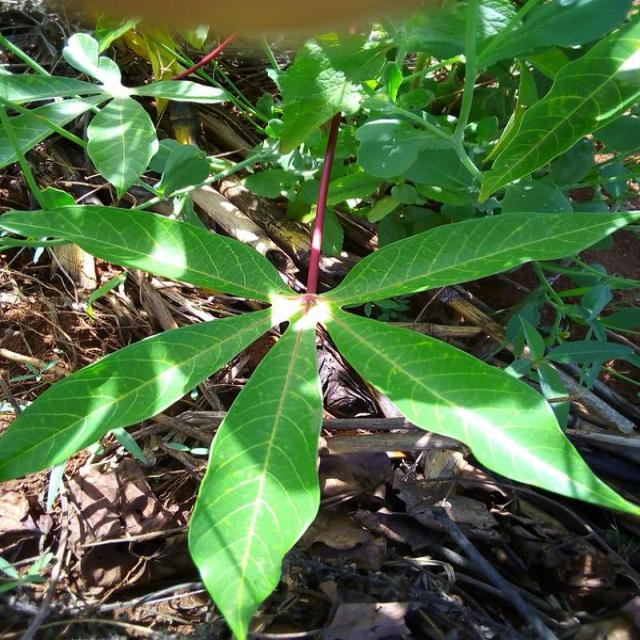cassava leaf: (2, 3, 639, 637), (323, 301, 640, 517), (1, 304, 277, 483), (187, 316, 325, 638), (322, 206, 640, 309), (2, 192, 296, 303), (86, 94, 161, 198)
